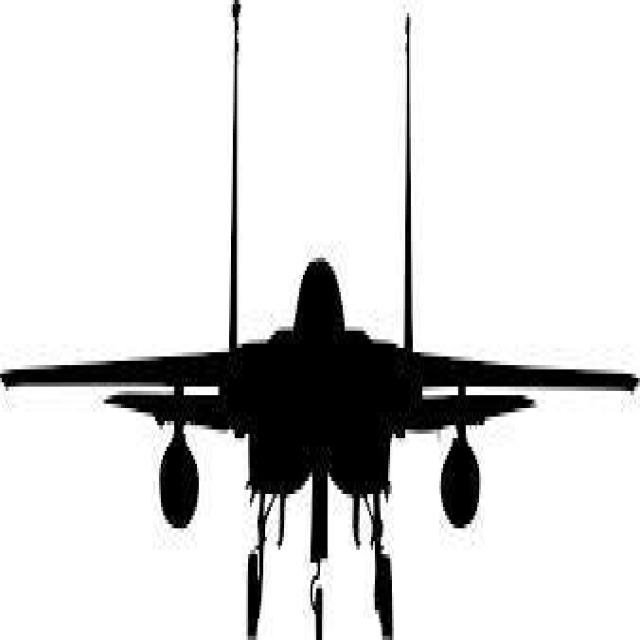Tanks: (30, 75, 608, 612)
